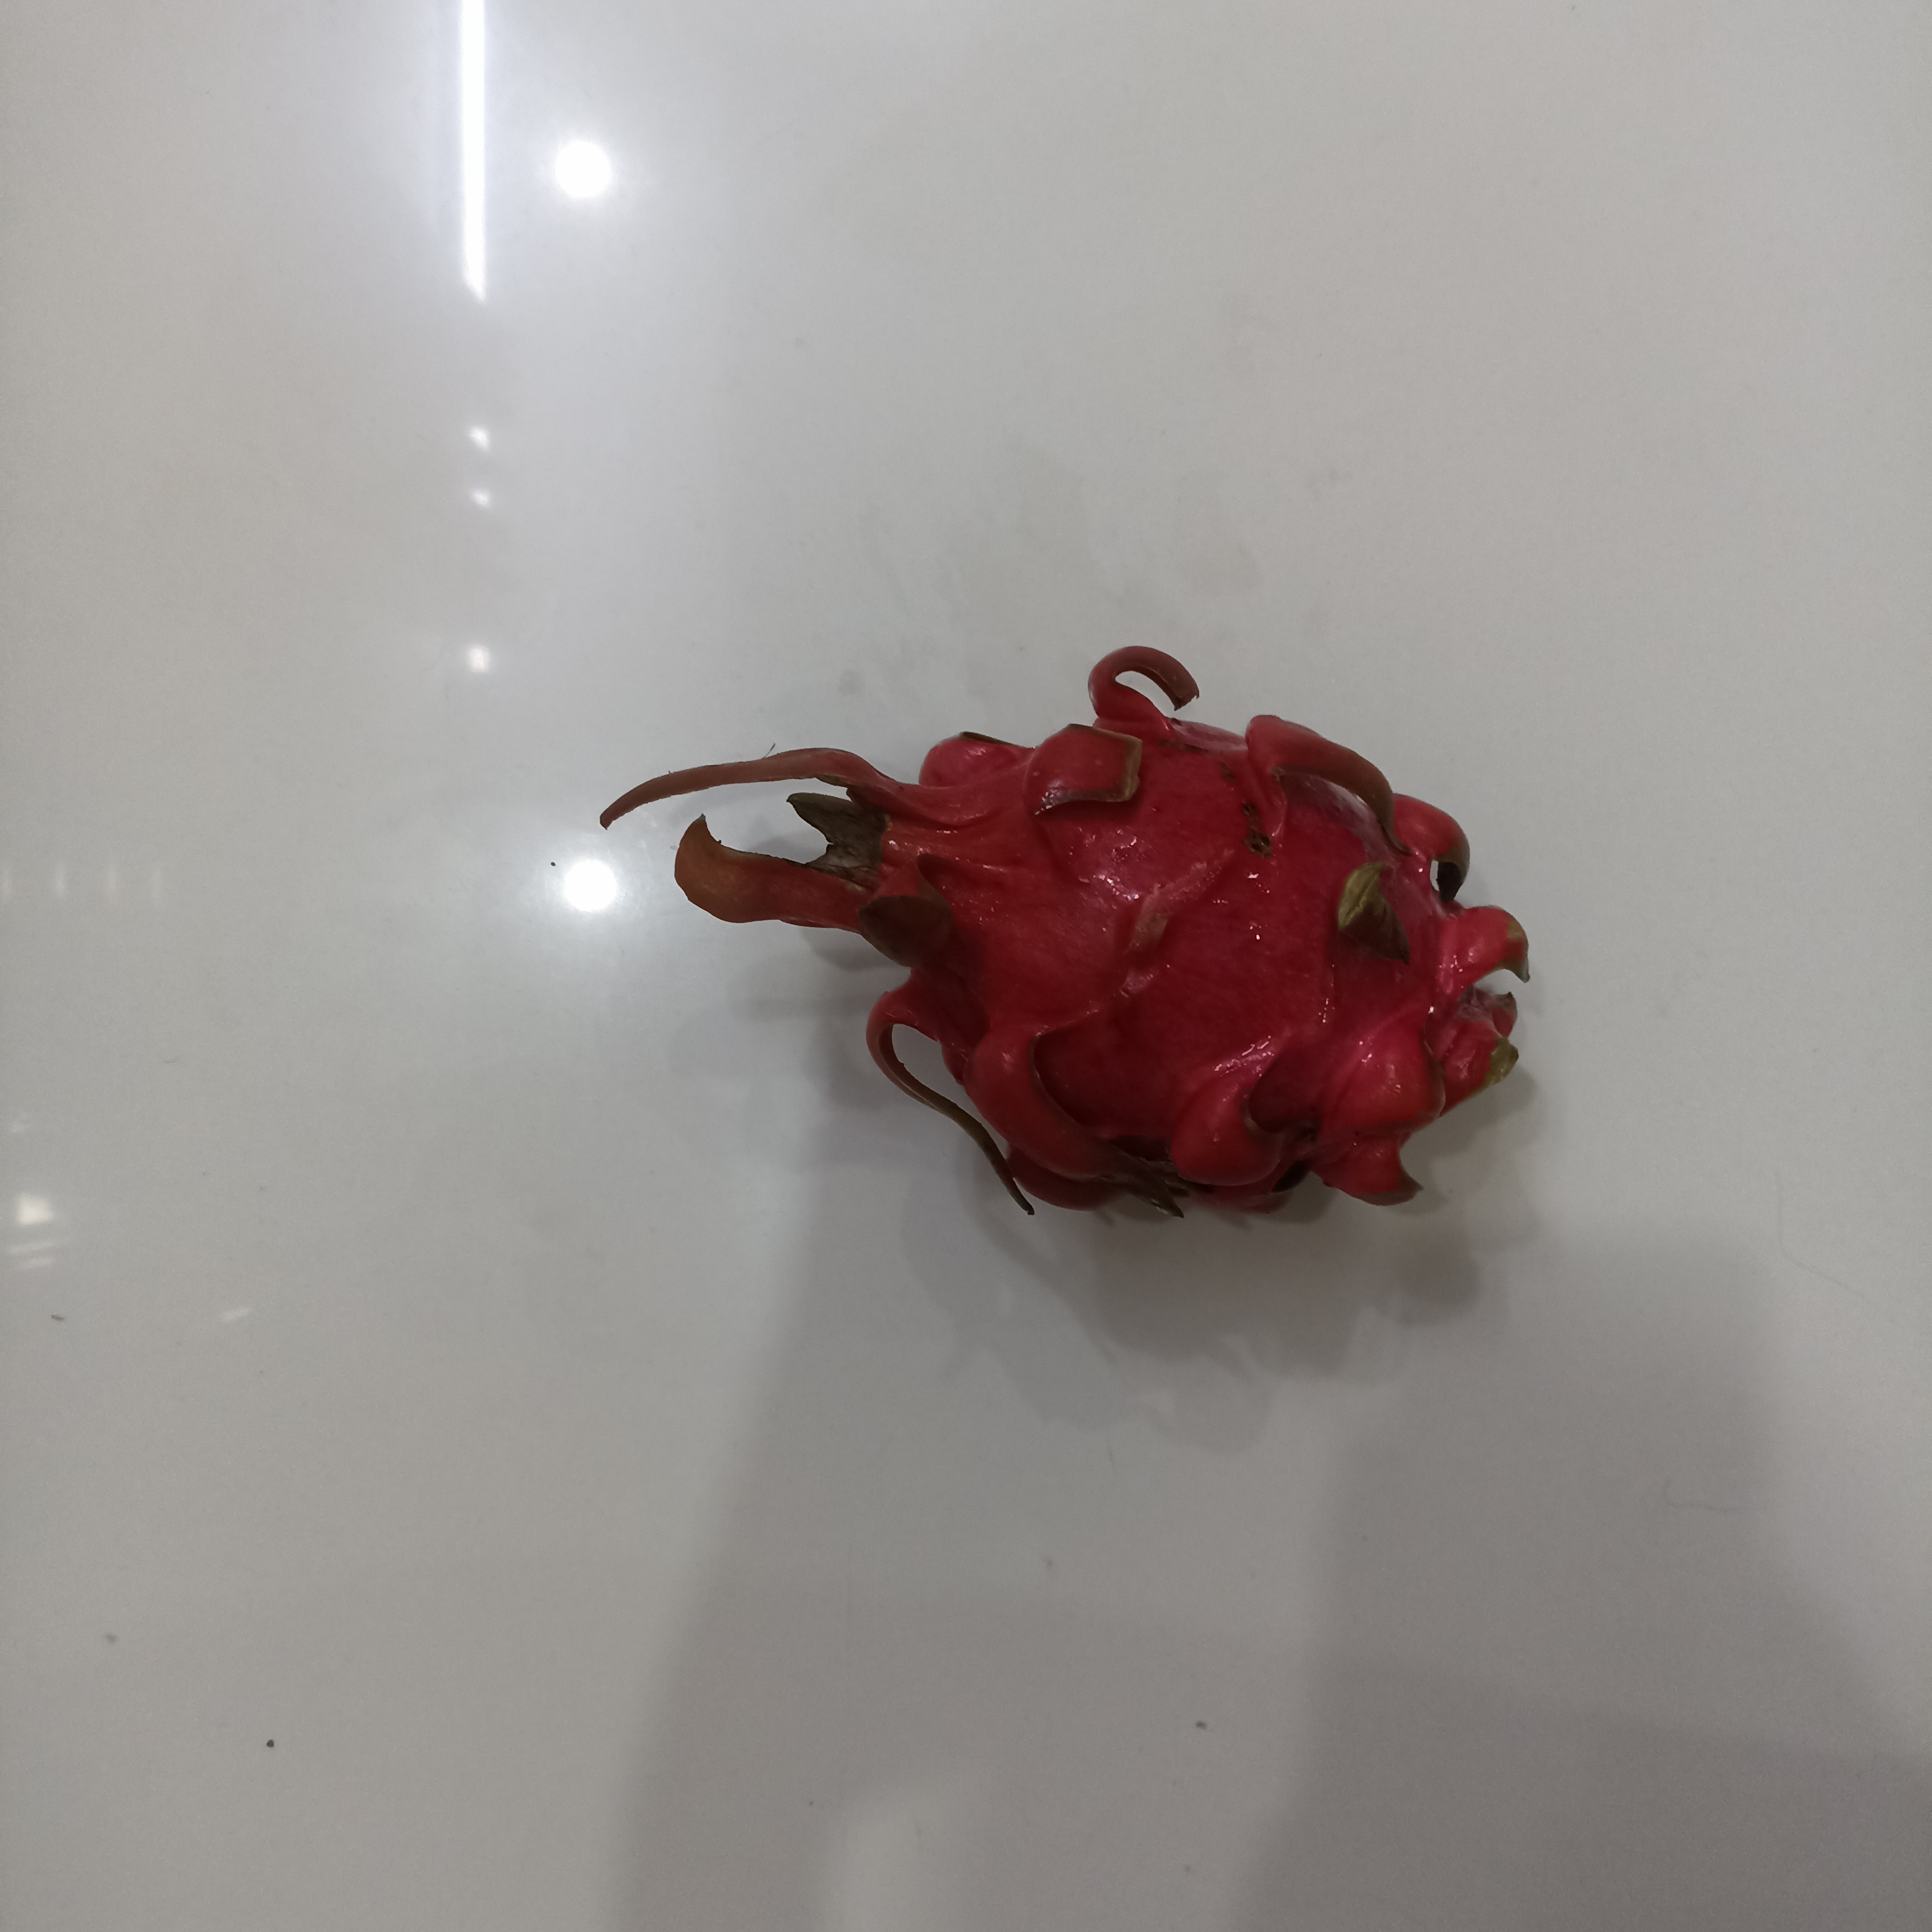Thanh long: (886, 697, 1529, 1221)
